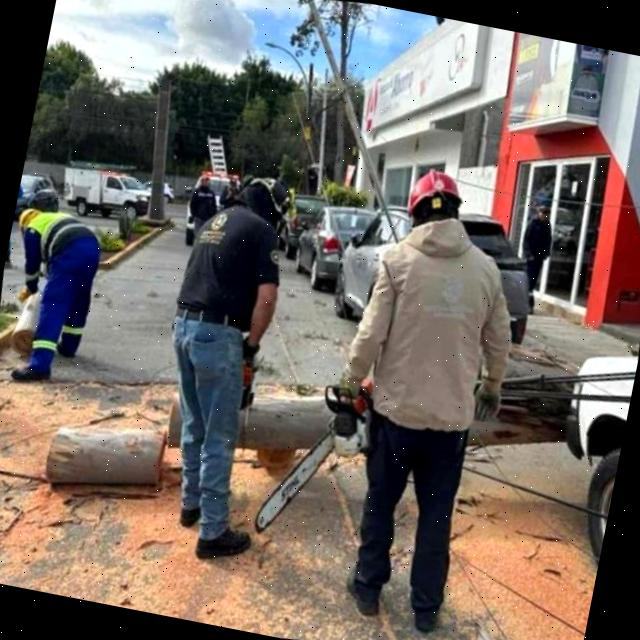Broken Pole: (46, 369, 570, 488), (305, 0, 400, 242)
